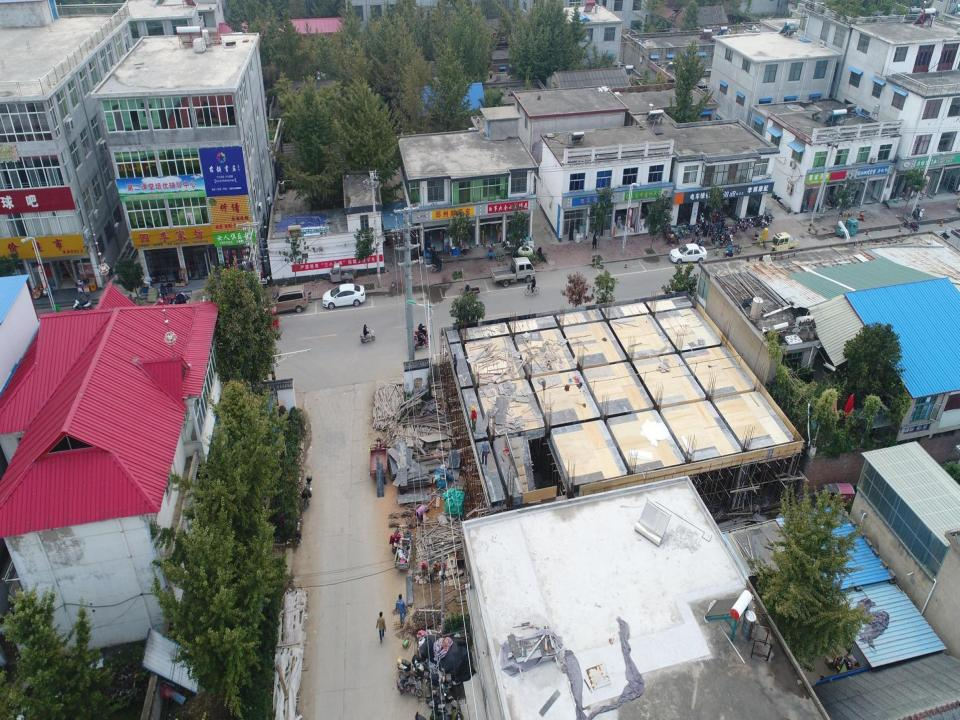car: (321, 283, 366, 309), (668, 243, 707, 264)
truck: (490, 258, 536, 286)
van: (266, 285, 308, 315)
